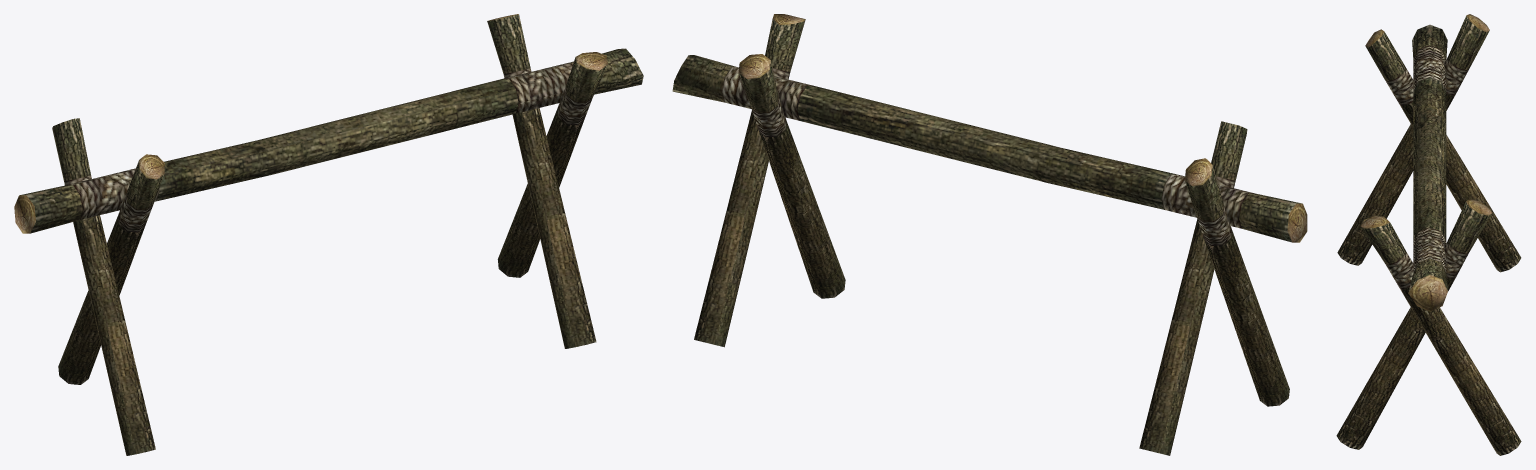
Rendered from thing_barricade_00.fbx.
3 renders of one model, left to right at view 1: azimuth 30°, elevation 25°; view 2: azimuth 150°, elevation 25°; view 3: azimuth 270°, elevation 25°, orthographic. The views are drawn at different scales.
Visible parts, largest first — view 1: thing_wood barricade_00; view 2: thing_wood barricade_00; view 3: thing_wood barricade_00.
Boxes of the visible parts, <box> form: thing_wood barricade_00: <box>14,14,643,455</box>; thing_wood barricade_00: <box>672,14,1307,455</box>; thing_wood barricade_00: <box>1336,14,1521,455</box>.
Bounding box in the file's own units: 3.6 × 1.63 × 1.1.
